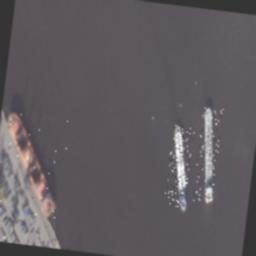boat: (4, 107, 60, 221), (192, 105, 223, 203), (163, 122, 195, 210)
